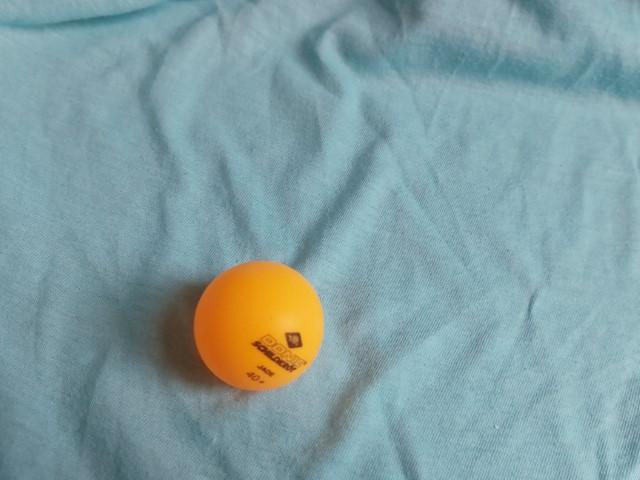oball: (187, 254, 336, 397)
